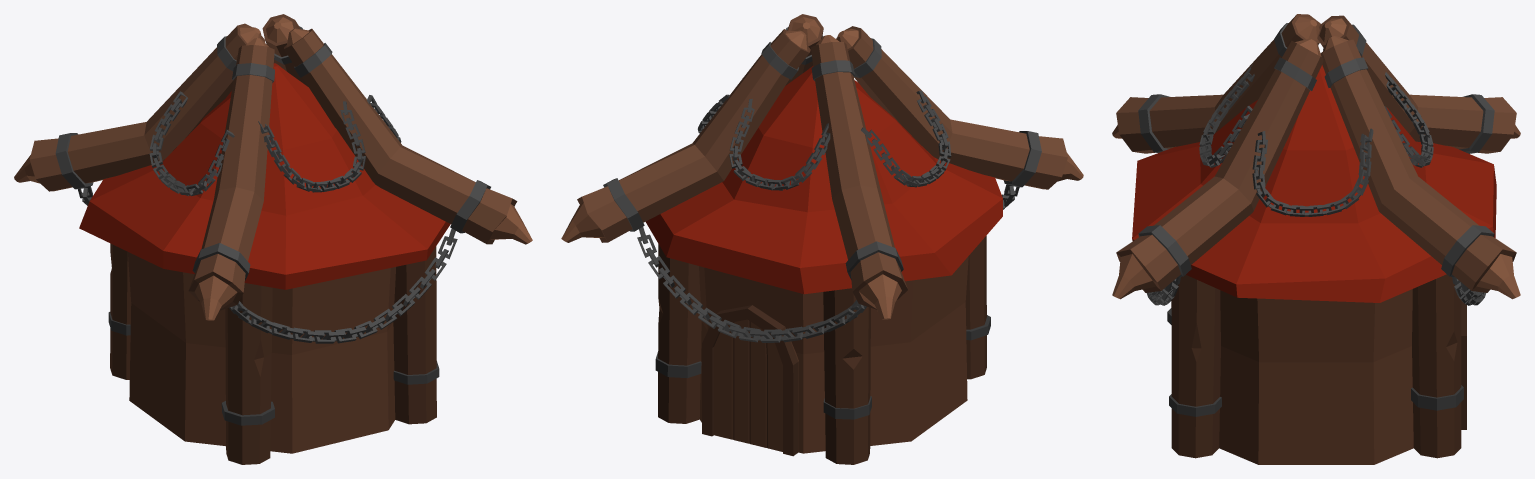
File: Building3.fbx
3 views of the same model, side by side, from view 1: azimuth 30°, elevation 25°; view 2: azimuth 150°, elevation 25°; view 3: azimuth 270°, elevation 25° (orthographic). The views are drawn at different scales.
Parts seen in each view (by area): view 1: building3; view 2: building3; view 3: building3.
Part boxes in pixels (bbox=[...]): building3: bbox=[14, 14, 532, 464]; building3: bbox=[561, 14, 1083, 464]; building3: bbox=[1112, 14, 1520, 464].
Size of the model in its own units: 5.75 by 5.98 by 6.11.
